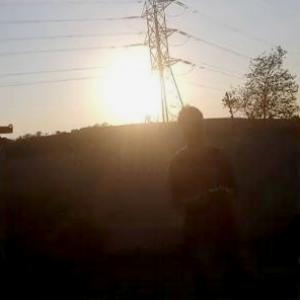follow: (165, 102, 244, 299)
